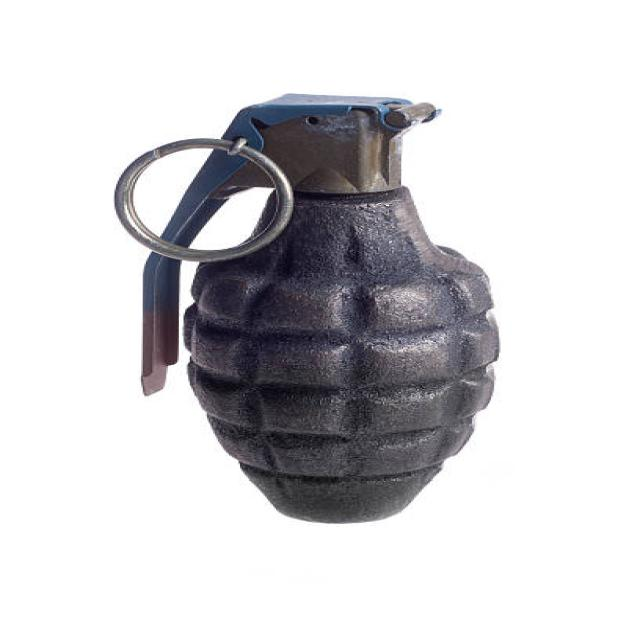grenade: (101, 92, 516, 531)
